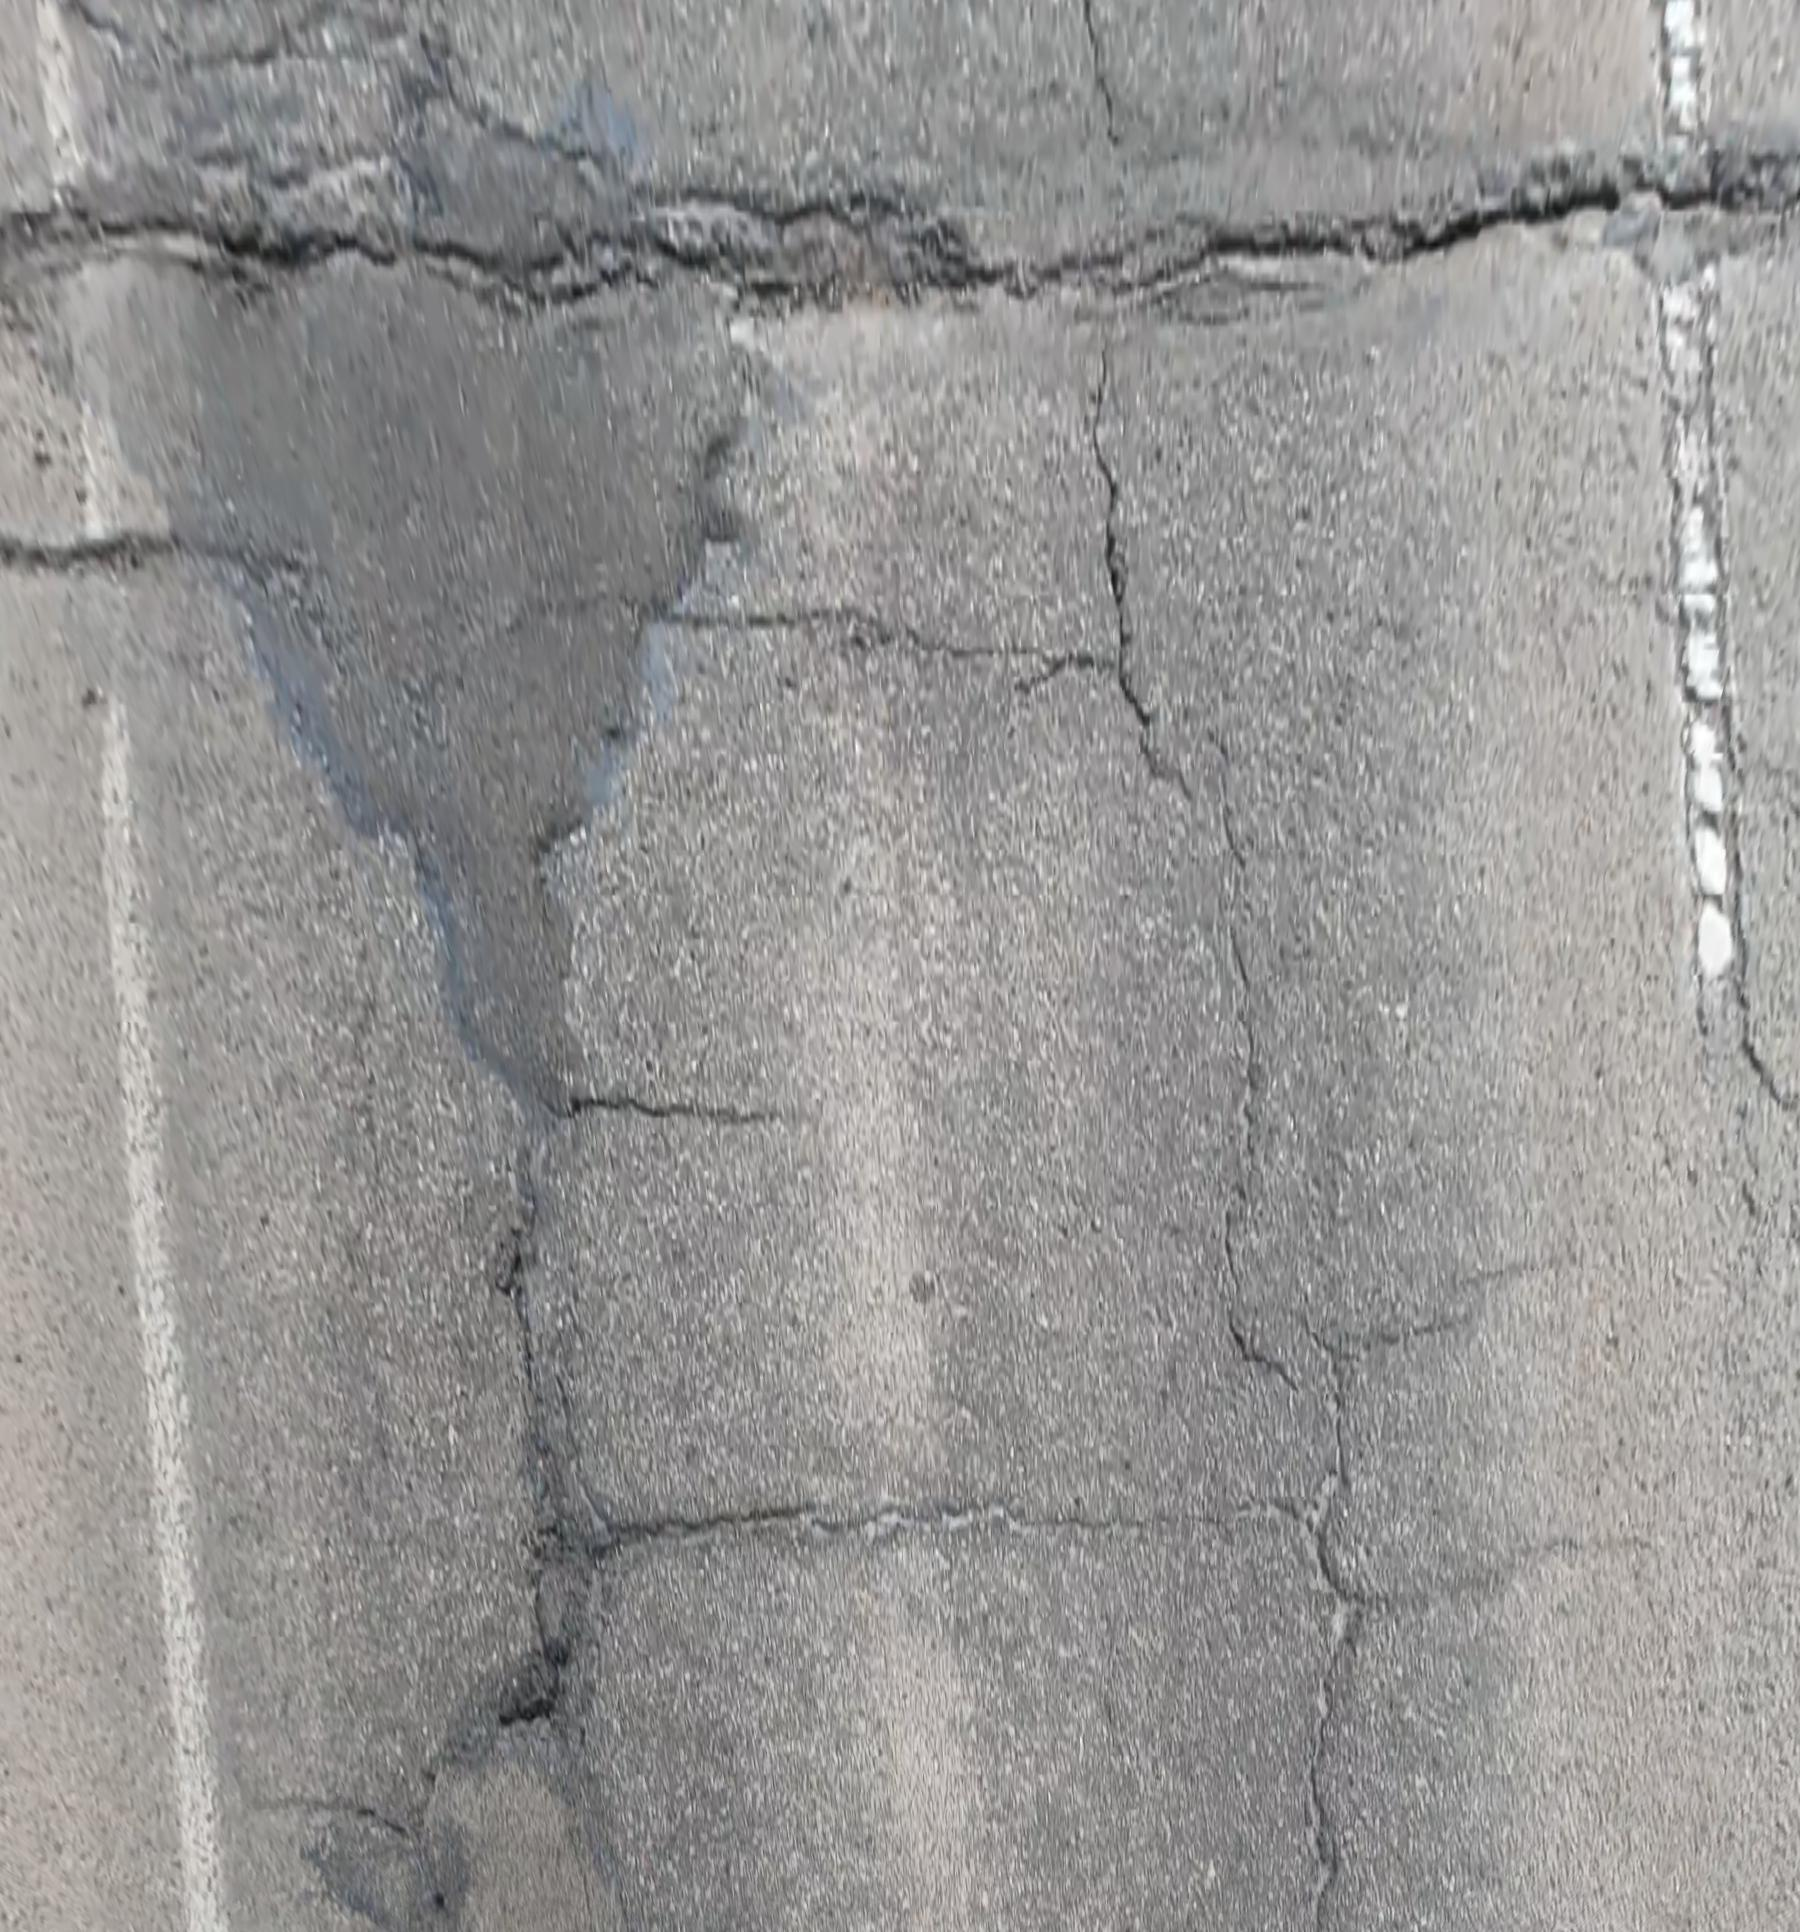pothole: (650, 195, 998, 305), (497, 1644, 584, 1727)
pothole_patch_poor: (7, 0, 738, 1105)
